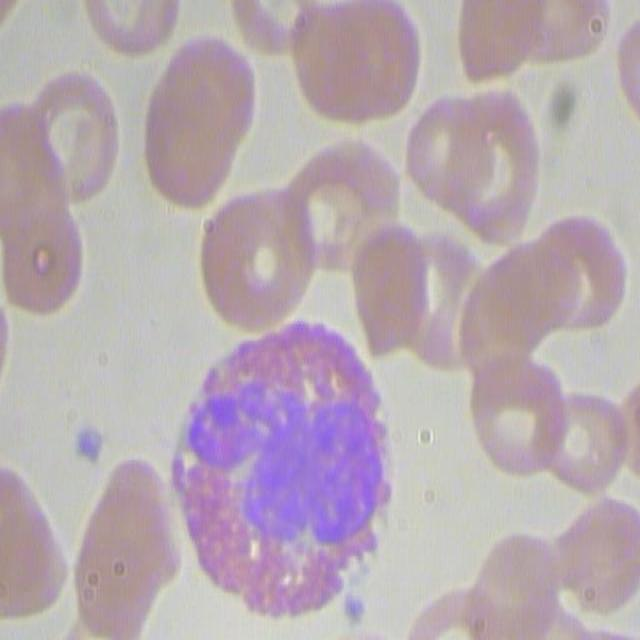RBC: (400, 82, 543, 257), (350, 216, 482, 375), (132, 34, 248, 213), (71, 454, 179, 640), (286, 0, 426, 132), (465, 2, 640, 103), (447, 536, 614, 640), (292, 112, 399, 273), (196, 190, 312, 335), (26, 63, 124, 212), (470, 341, 568, 490), (524, 212, 628, 343), (537, 492, 637, 624), (529, 385, 634, 498), (0, 459, 69, 625), (2, 198, 84, 311), (86, 0, 183, 60), (230, 0, 310, 62)
WBC: (172, 316, 404, 621)
